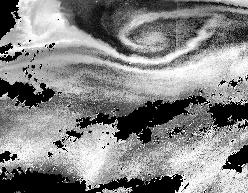CE: (121, 4, 221, 68)
